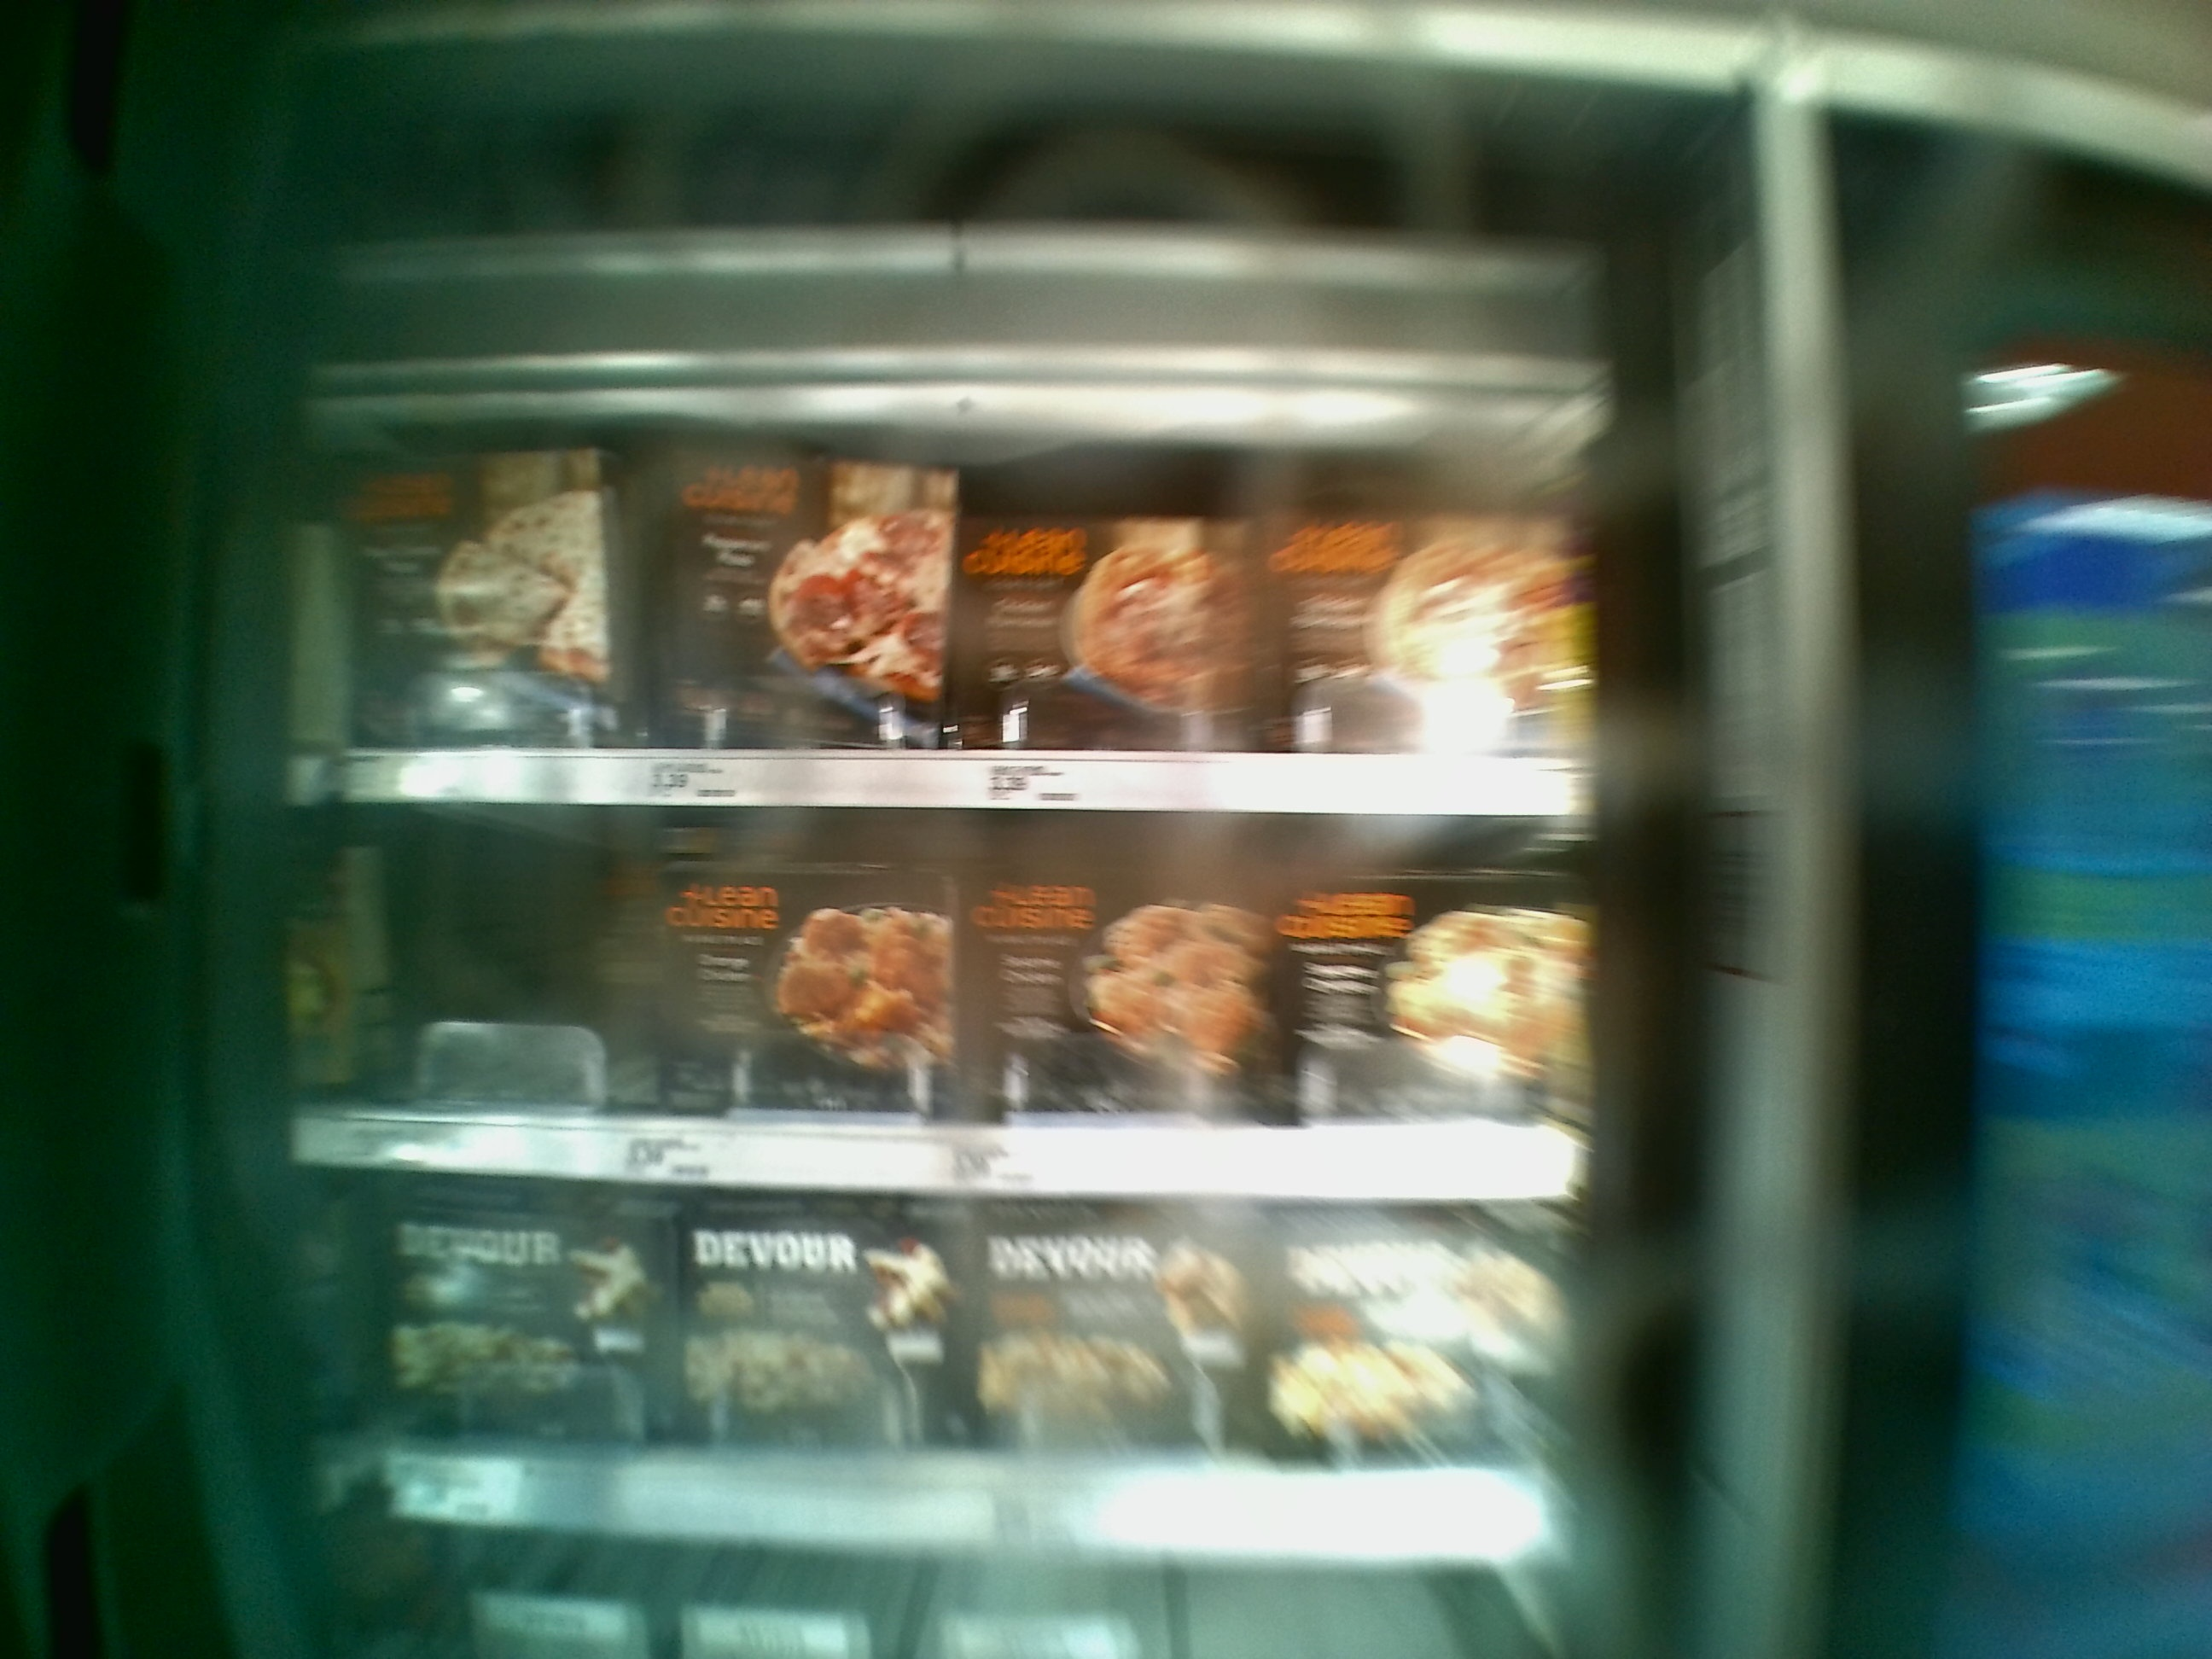shelf: (298, 397, 1588, 819), (275, 807, 1587, 1202)
